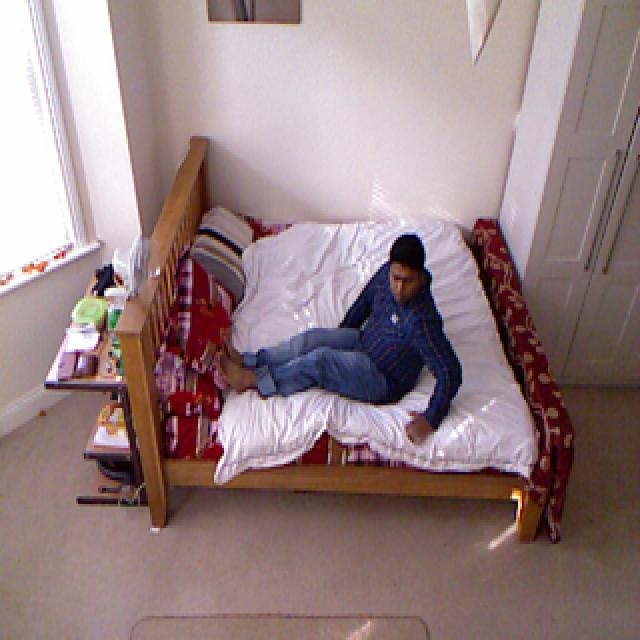sitting: (208, 242, 452, 413)
